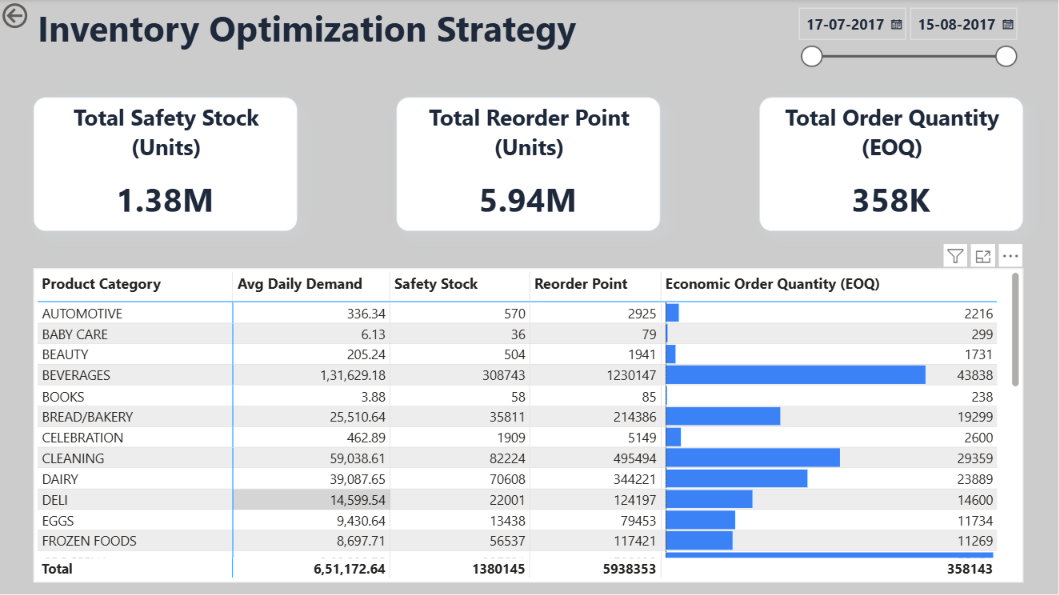

What the dashboard file says about the page in this screenshot:
{"tool":"powerbi","page":{"name":"Inventory Optimization","canvas":[1280,720],"ordinal":1},"visuals":[{"type":"textbox","box":[42.2,0,668.4,88.1],"z":0},{"type":"slicer","fields":{"Values":["forecast_results.date"]},"box":[953.1,0,284,87.8],"z":1000},{"type":"pivotTable","fields":{"Rows":["inventory_metrics.family"],"Values":["Sum(inventory_metrics.avg_daily_demand)","Sum(inventory_metrics.safety_stock)","Sum(inventory_metrics.reorder_point)","Sum(inventory_metrics.eoq)"]},"box":[42.2,324.5,1194.4,378.8],"z":2000},{"type":"actionButton","box":[0,0,42.2,39.8],"z":3000},{"type":"cardVisual","title":"Total Safety Stock (Units)","fields":{"Data":["Sum(inventory_metrics.safety_stock)"]},"box":[42.2,118.2,318.5,161.7],"z":4000},{"type":"cardVisual","title":"Total Reorder Point (Units)","fields":{"Data":["Sum(inventory_metrics.reorder_point)"]},"box":[480.2,118.2,318.5,161.7],"z":5000},{"type":"cardVisual","title":"Total Order Quantity (EOQ)","fields":{"Data":["Sum(inventory_metrics.eoq)"]},"box":[918.1,118.2,318.5,161.7],"z":6000}]}

Visuals, with their boxes in screenshot pixels (x1, y1, x2, y2), scaled from the page's 1280x720 canvas onto the 1059x595 screenshot:
textbox: [35,0,588,73]
slicer - forecast_results.date: [789,0,1024,73]
pivotTable - inventory_metrics.family x Sum(inventory_metrics.avg_daily_demand): [35,268,1023,581]
actionButton: [0,0,35,33]
"Total Safety Stock (Units)" cardVisual: [35,98,298,231]
"Total Reorder Point (Units)" cardVisual: [397,98,661,231]
"Total Order Quantity (EOQ)" cardVisual: [760,98,1023,231]
